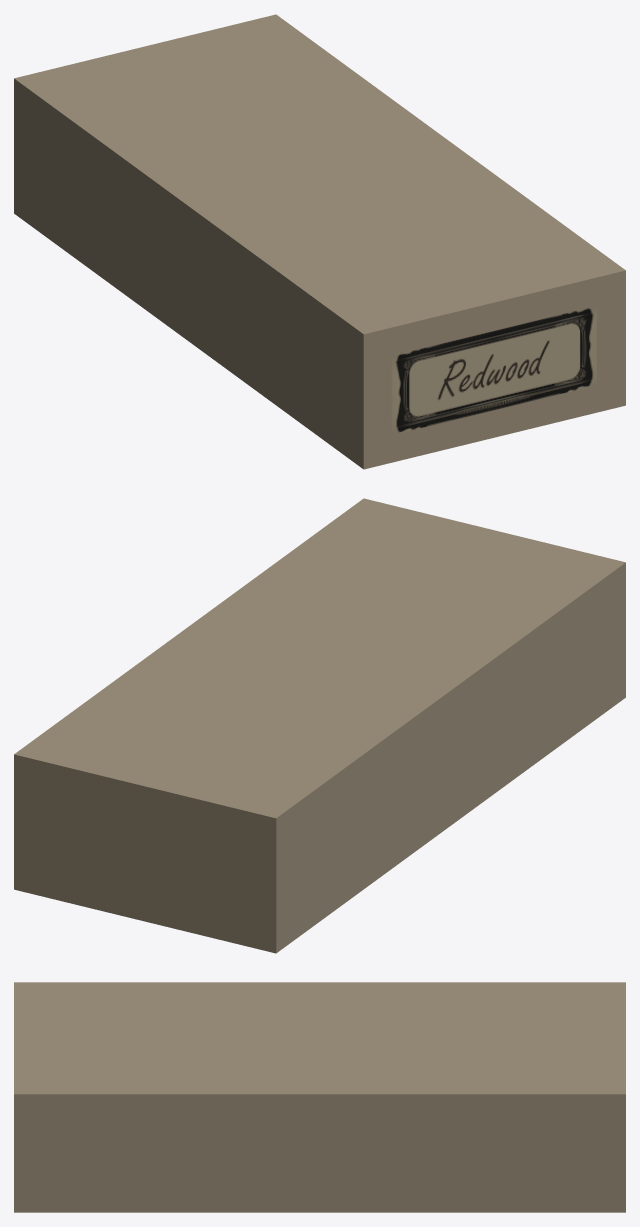
Rendered from neutralBox.glb.
The picture shows the model from 3 angles, top to bottom: view 1: azimuth 30°, elevation 25°; view 2: azimuth 150°, elevation 25°; view 3: azimuth 270°, elevation 25°; orthographic projection. The views are drawn at different scales.
Visible parts, largest first — view 1: NeutralBox; view 2: NeutralBox; view 3: NeutralBox.
Part boxes in pixels (x1,y1,x2,y2): NeutralBox: (14, 14, 625, 469); NeutralBox: (14, 498, 625, 953); NeutralBox: (14, 982, 625, 1212).
Size of the model in its own units: 0.3831 by 0.1887 by 0.8851.
1 material, 1 textured.
